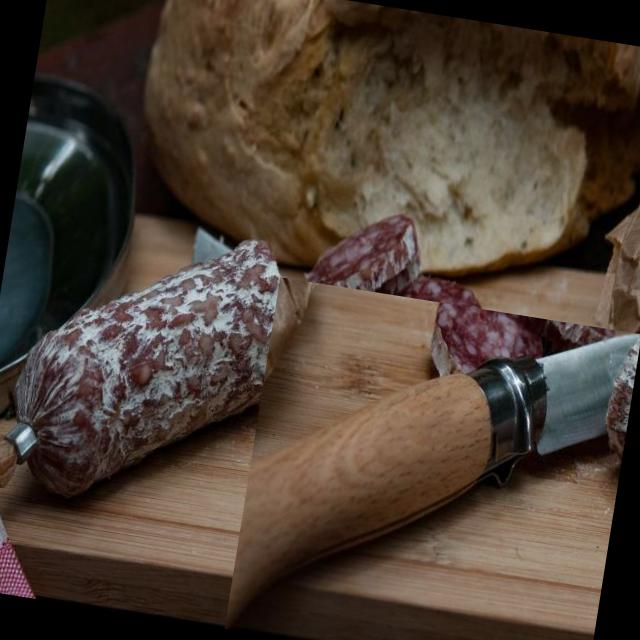Knife: (225, 334, 640, 629)
